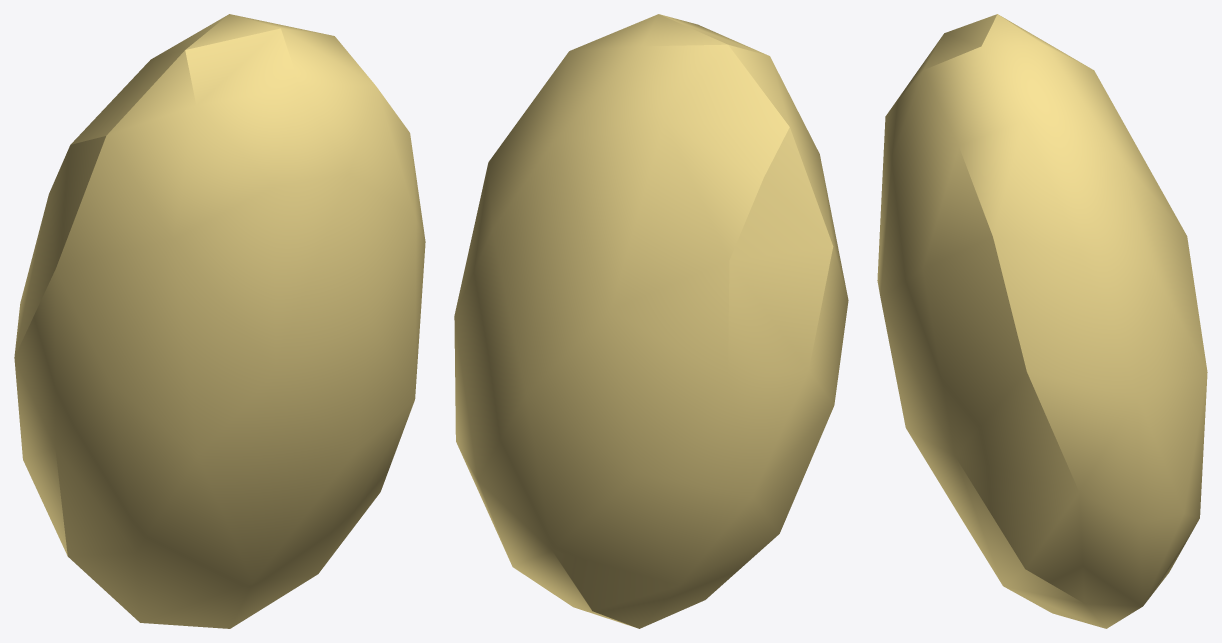
File: fma54584_mm2661.glb
3 views of the same model, side by side, from view 1: azimuth 30°, elevation 25°; view 2: azimuth 150°, elevation 25°; view 3: azimuth 270°, elevation 25° (orthographic). The views are drawn at different scales.
Visible parts, largest first — view 1: FMA54584_MM2661; view 2: FMA54584_MM2661; view 3: FMA54584_MM2661.
Part boxes in pixels (left/top/right/bottom): FMA54584_MM2661: left=14, top=14, right=425, bottom=628; FMA54584_MM2661: left=454, top=14, right=848, bottom=628; FMA54584_MM2661: left=877, top=14, right=1207, bottom=628.
Size of the model in its own units: 0.00177 by 0.00273 by 0.00143.
